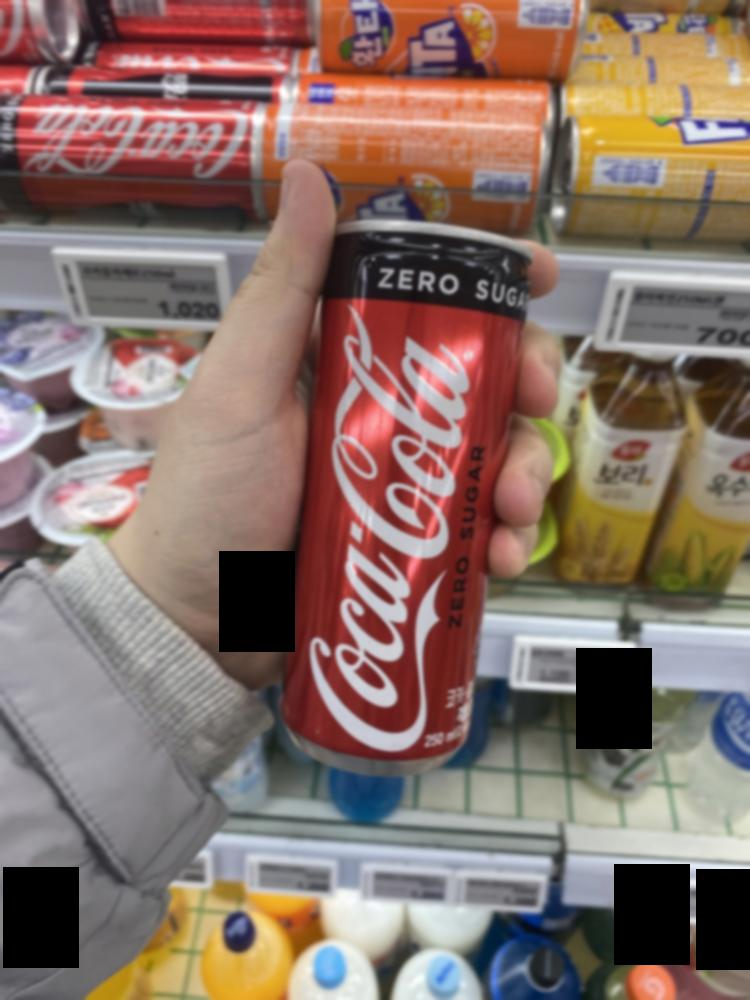cocacola_zero: (296, 178, 480, 767)
